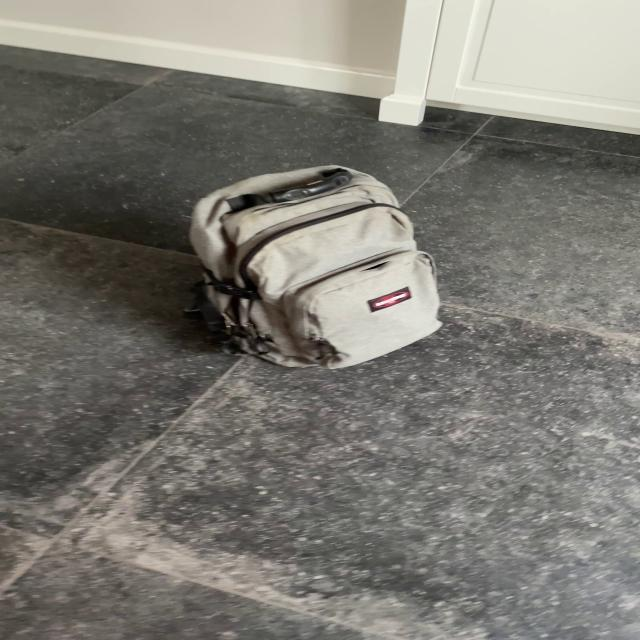backpack: (174, 159, 450, 373)
